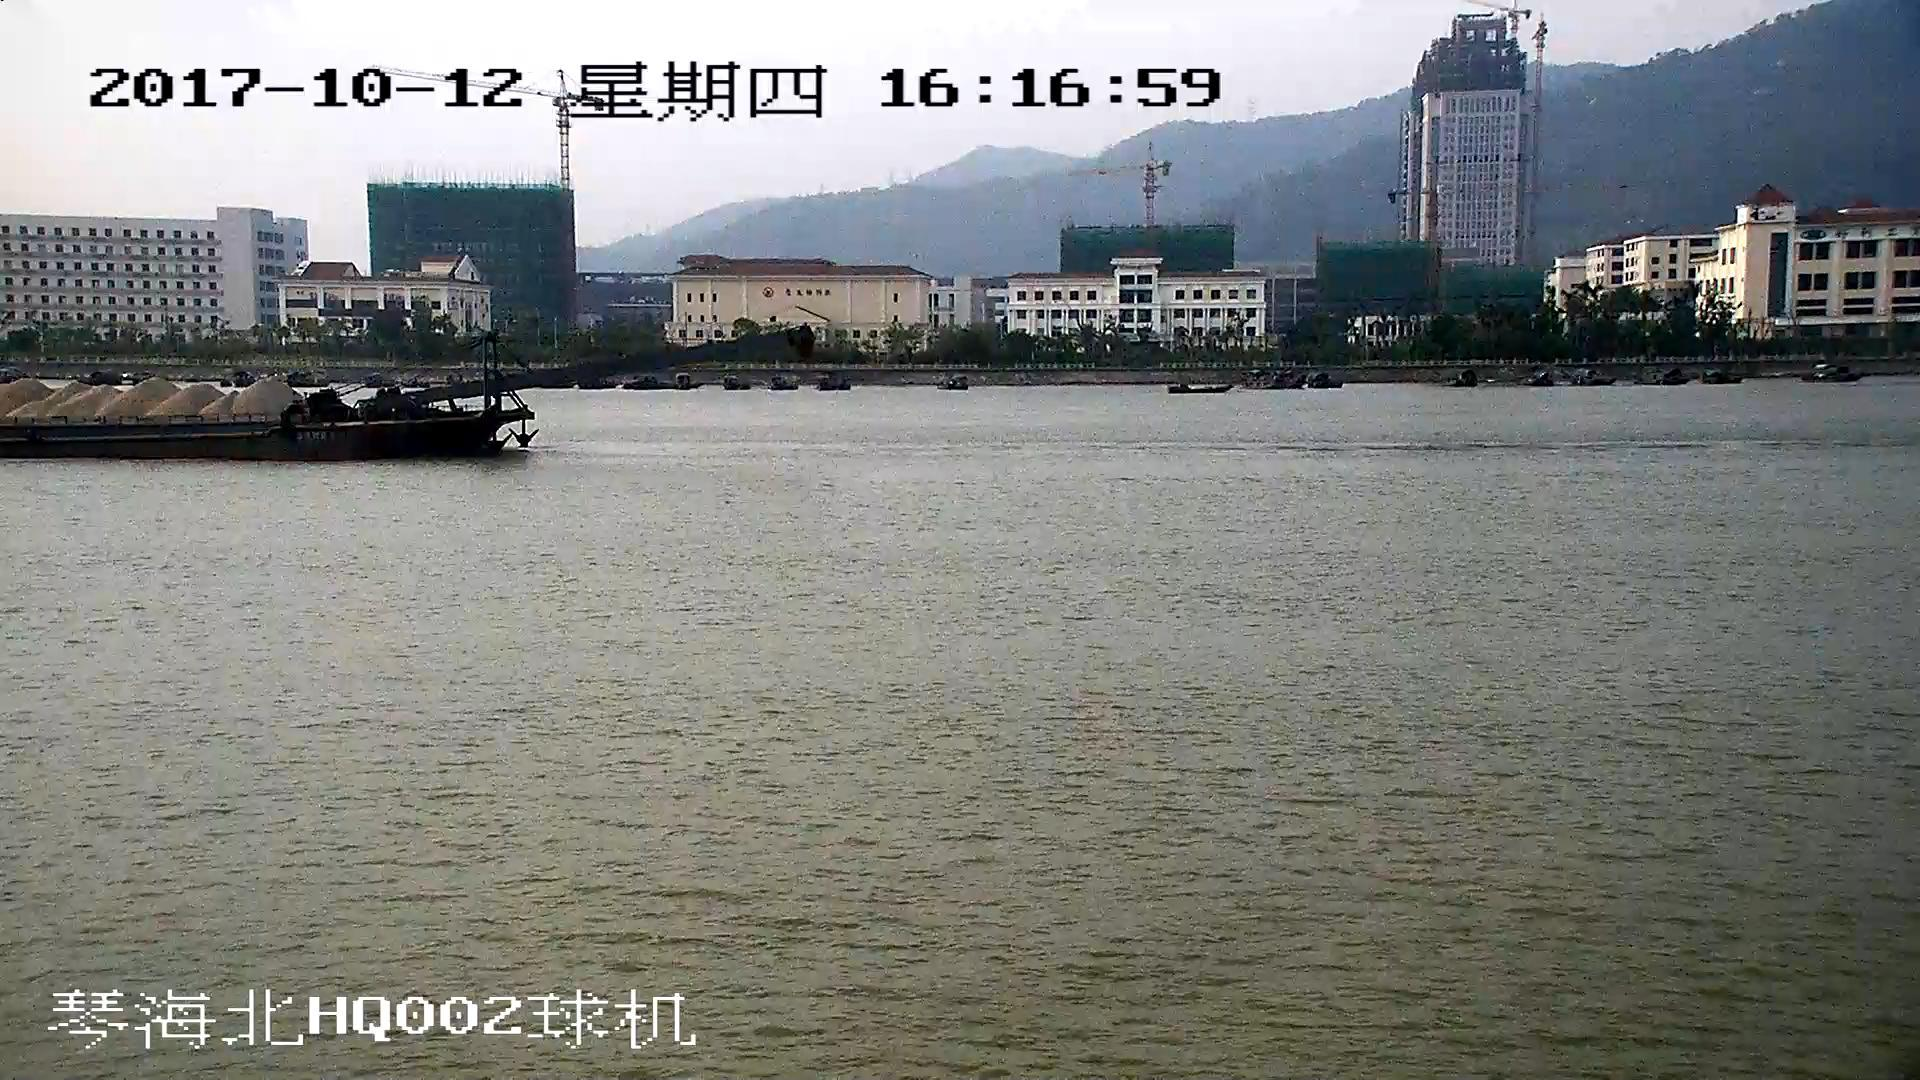Ship: (3, 327, 808, 463)
